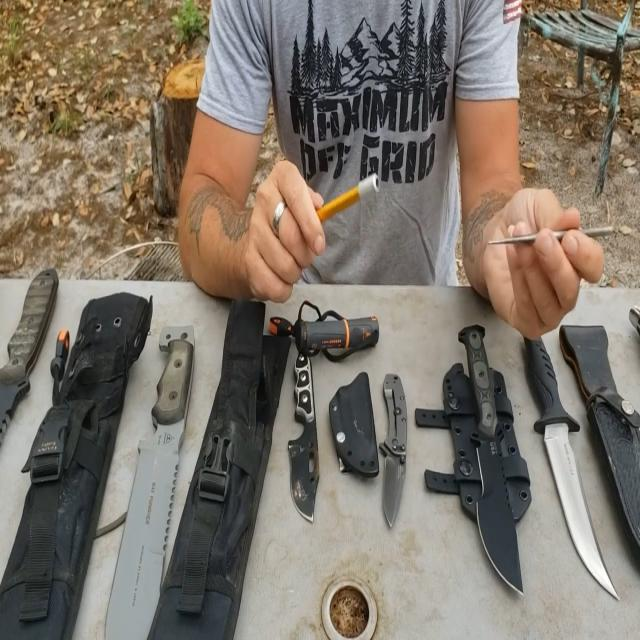knife: (112, 336, 218, 617), (525, 319, 621, 586), (456, 320, 530, 595), (279, 327, 329, 531), (365, 362, 419, 516)
